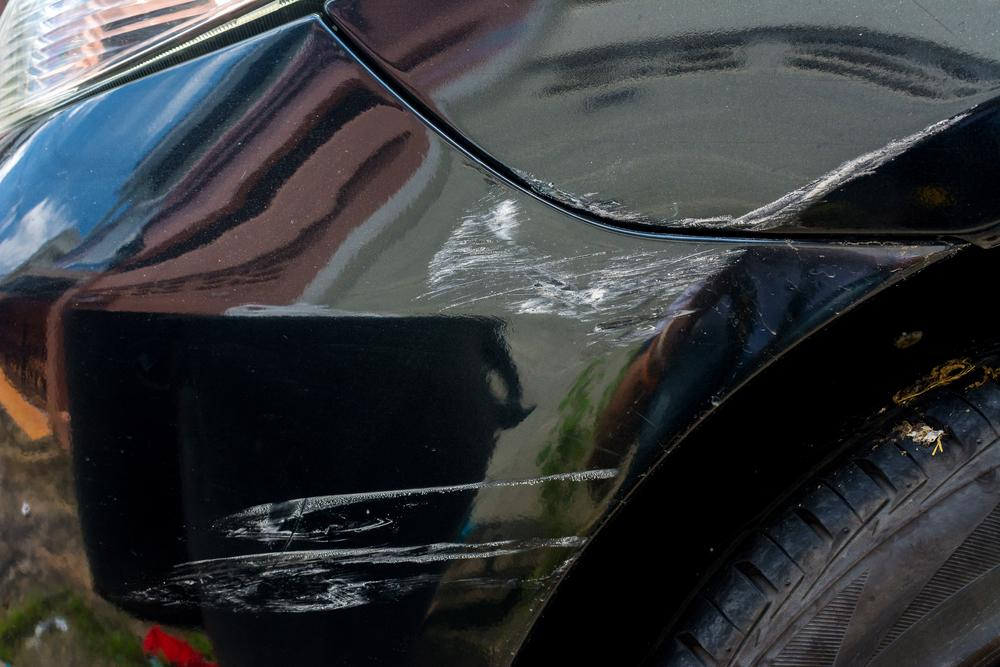scratch: (141, 460, 627, 612), (419, 184, 748, 344), (638, 105, 986, 231)
